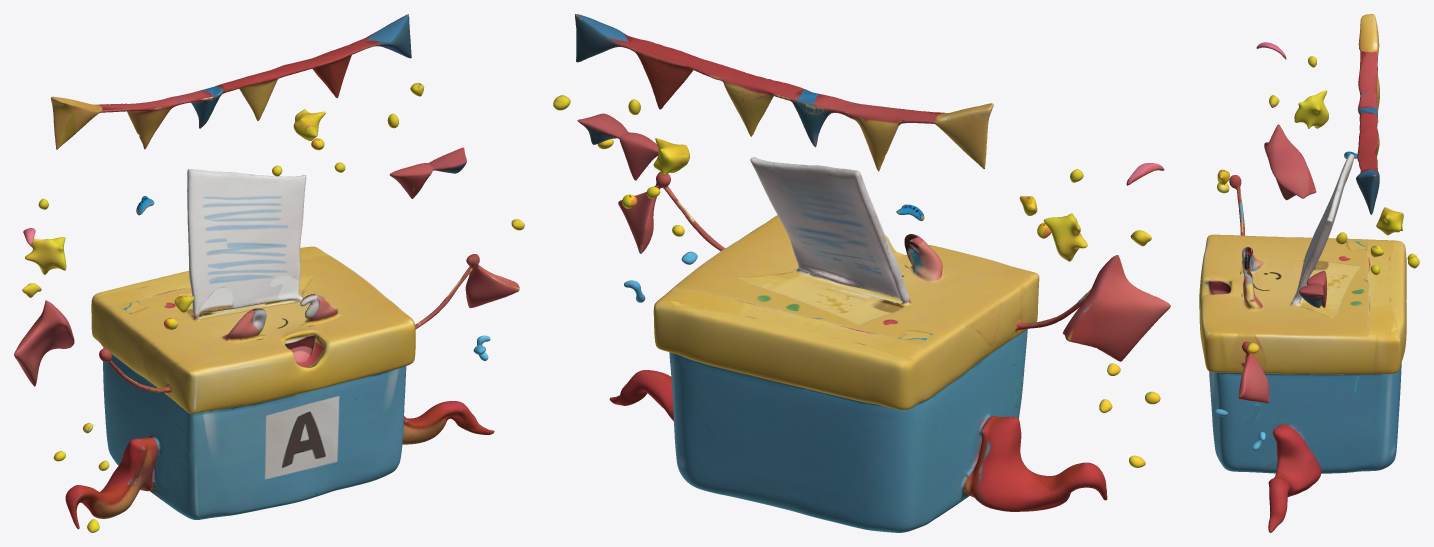
File: election.glb
3 renders of one model, left to right at view 1: azimuth 30°, elevation 25°; view 2: azimuth 150°, elevation 25°; view 3: azimuth 270°, elevation 25°, orthographic. The views are drawn at different scales.
Size of the model in its own units: 65158 by 48365 by 27547.
Materials: 1 (1 with a texture image).
